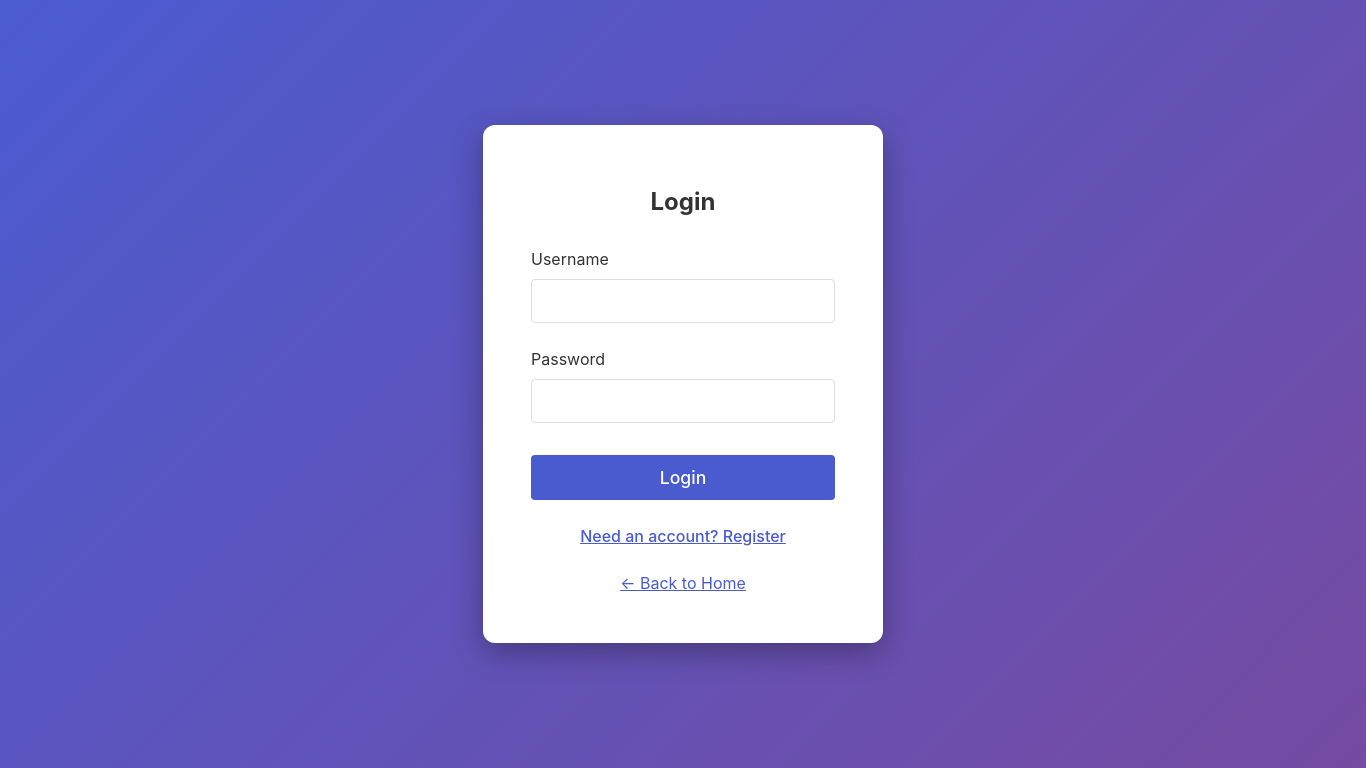
Test case: AuthPage › shows the username rule next to the field when registering
Expected: the text "Username must be 3 to 32 characters: letters, digits, - and _" is not shown
Click the button "Need an account? Register" at (683, 536), box x1=561 y1=516 x2=805 y2=555
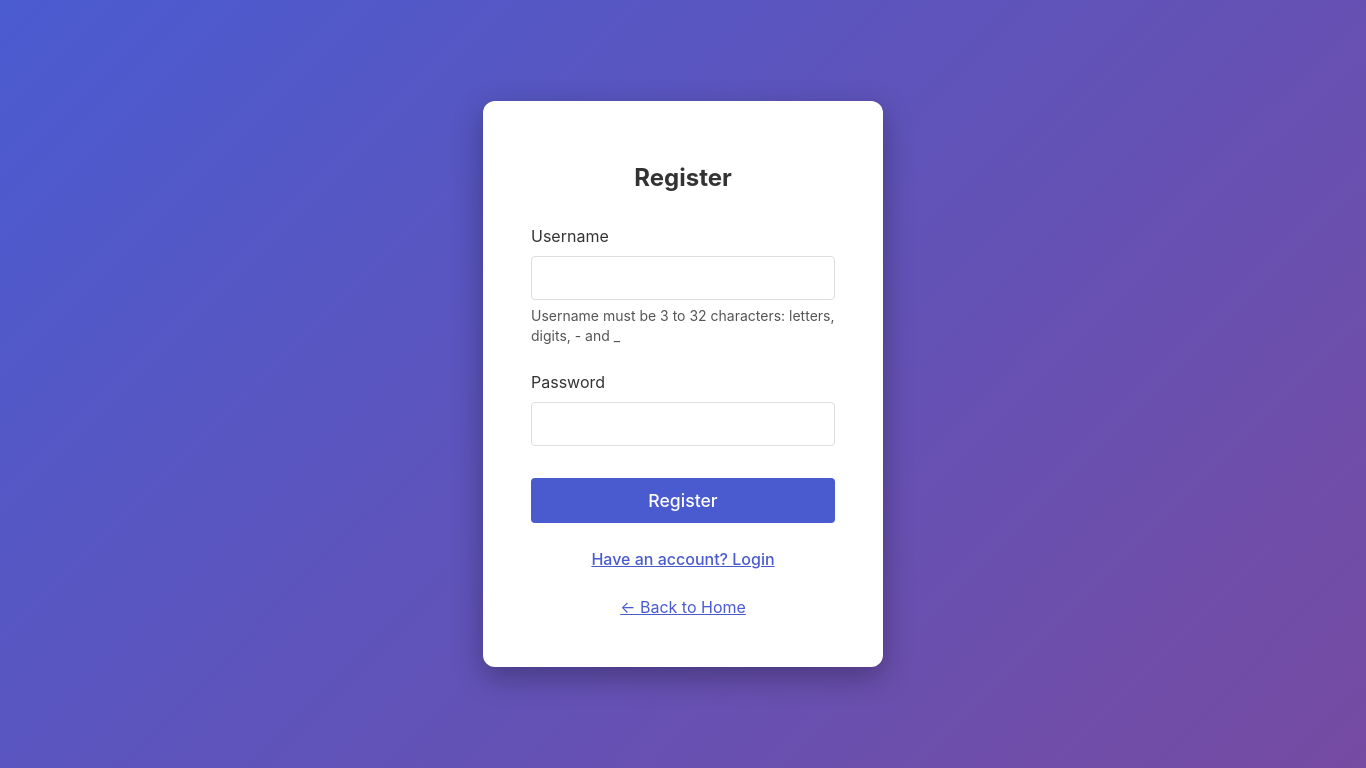
Result: the text "Username must be 3 to 32 characters: letters, digits, - and _" is shown at x1=531 y1=306 x2=835 y2=346
